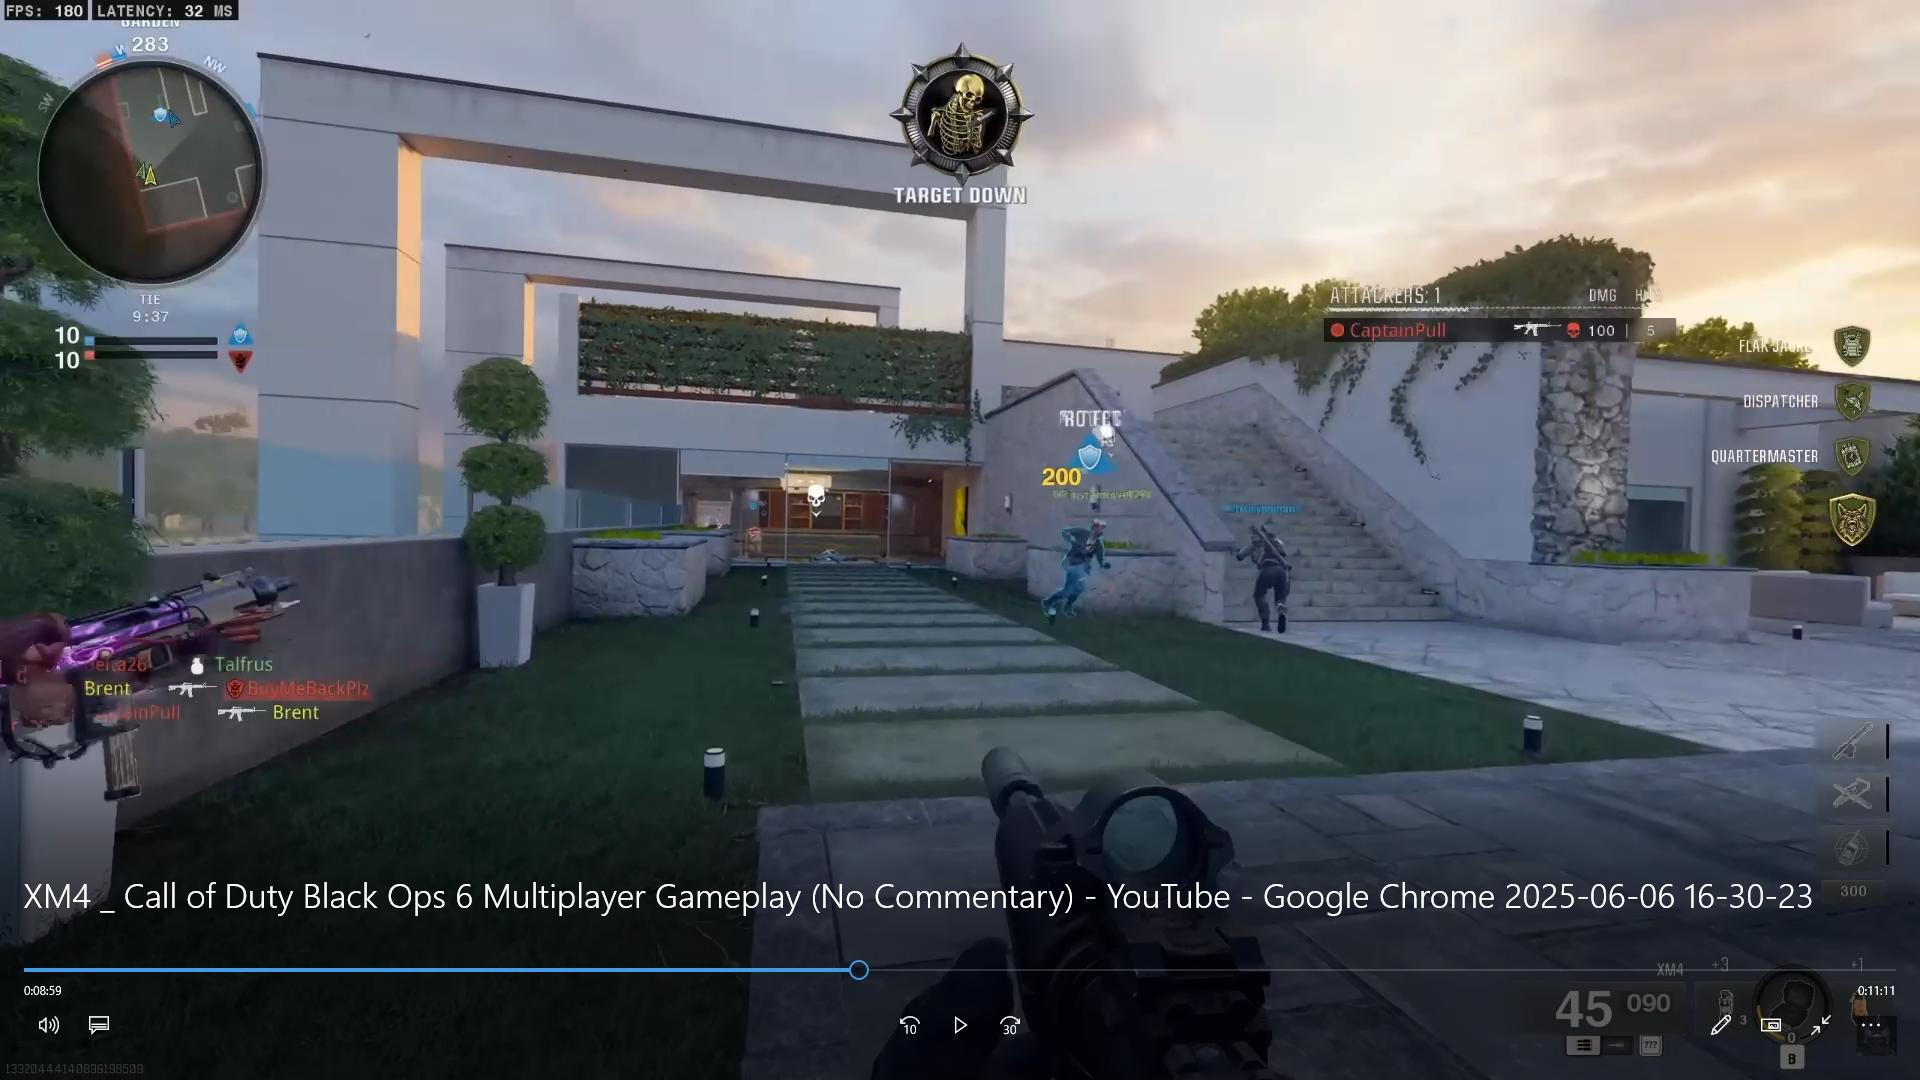Enemy: (1232, 526, 1300, 637), (1056, 502, 1118, 617)
